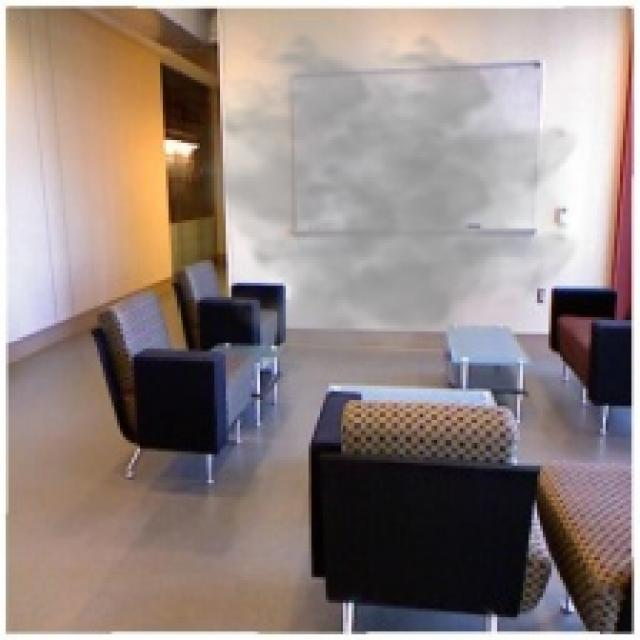smoke: (188, 20, 583, 394)
